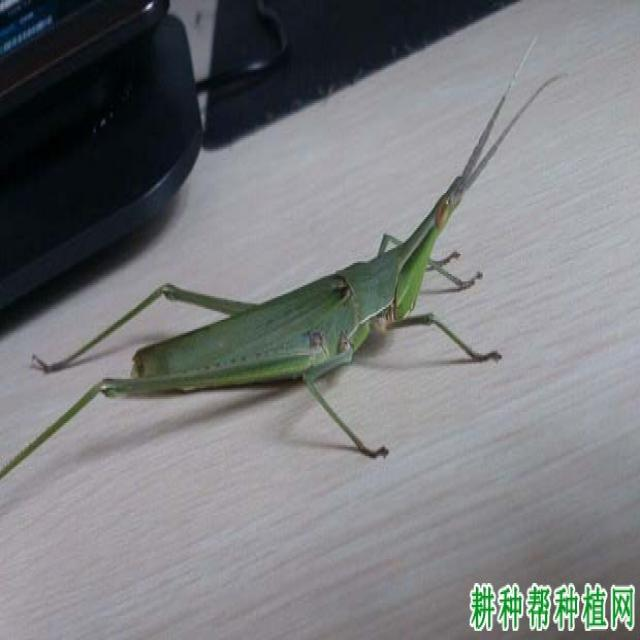ZhaMeng: (42, 151, 547, 467)
